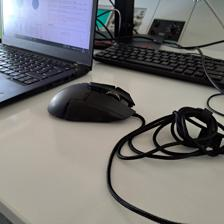mouse: (46, 79, 135, 124)
